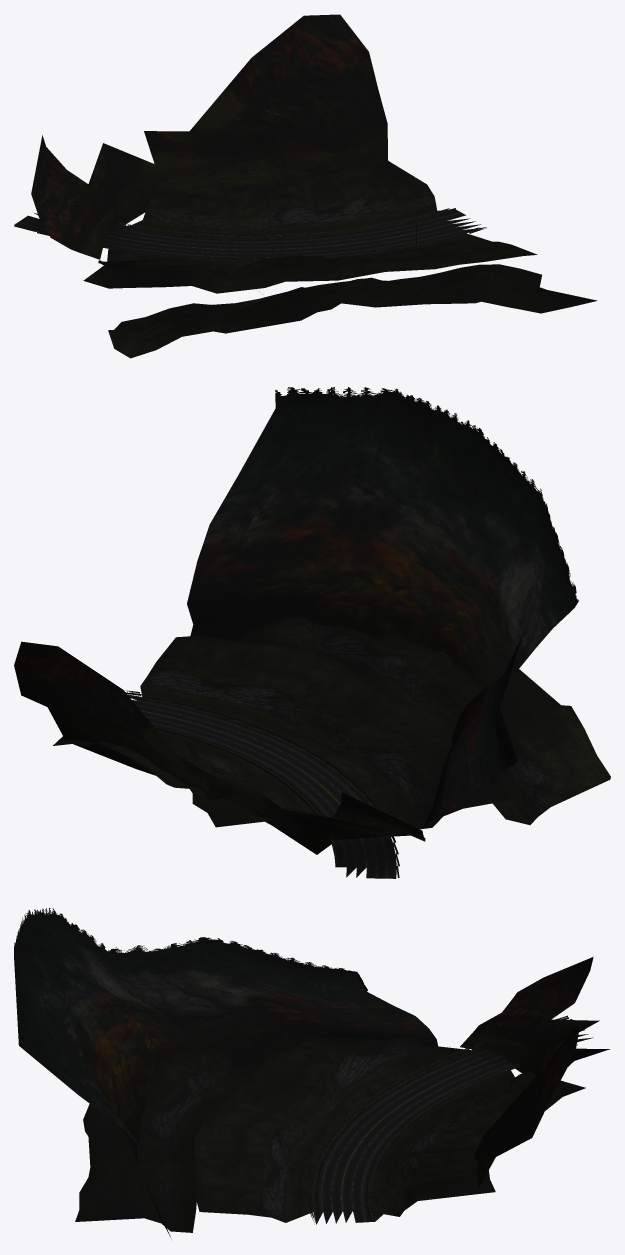
File: cell_-6_-10.gltf
3 views of the same model, one above another, from view 1: azimuth 30°, elevation 25°; view 2: azimuth 150°, elevation 25°; view 3: azimuth 270°, elevation 25° (orthographic). The views are drawn at different scales.
Parts seen in each view (by area): view 1: cell_-6_-10; view 2: cell_-6_-10; view 3: cell_-6_-10.
Part boxes in pixels (x1,y1,x2,y2): cell_-6_-10: [14, 14, 597, 358]; cell_-6_-10: [14, 387, 610, 878]; cell_-6_-10: [14, 908, 610, 1238].
Bounding box in the file's own units: 187 × 95.55 × 211.
Materials: 14 (14 with a texture image).
